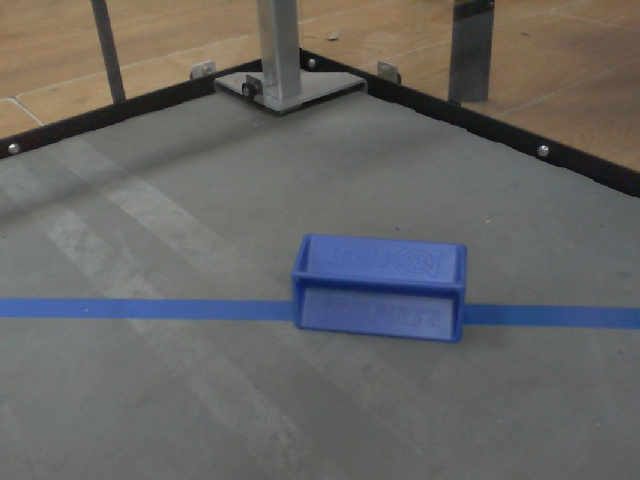BlueSample: (287, 227, 469, 345)
